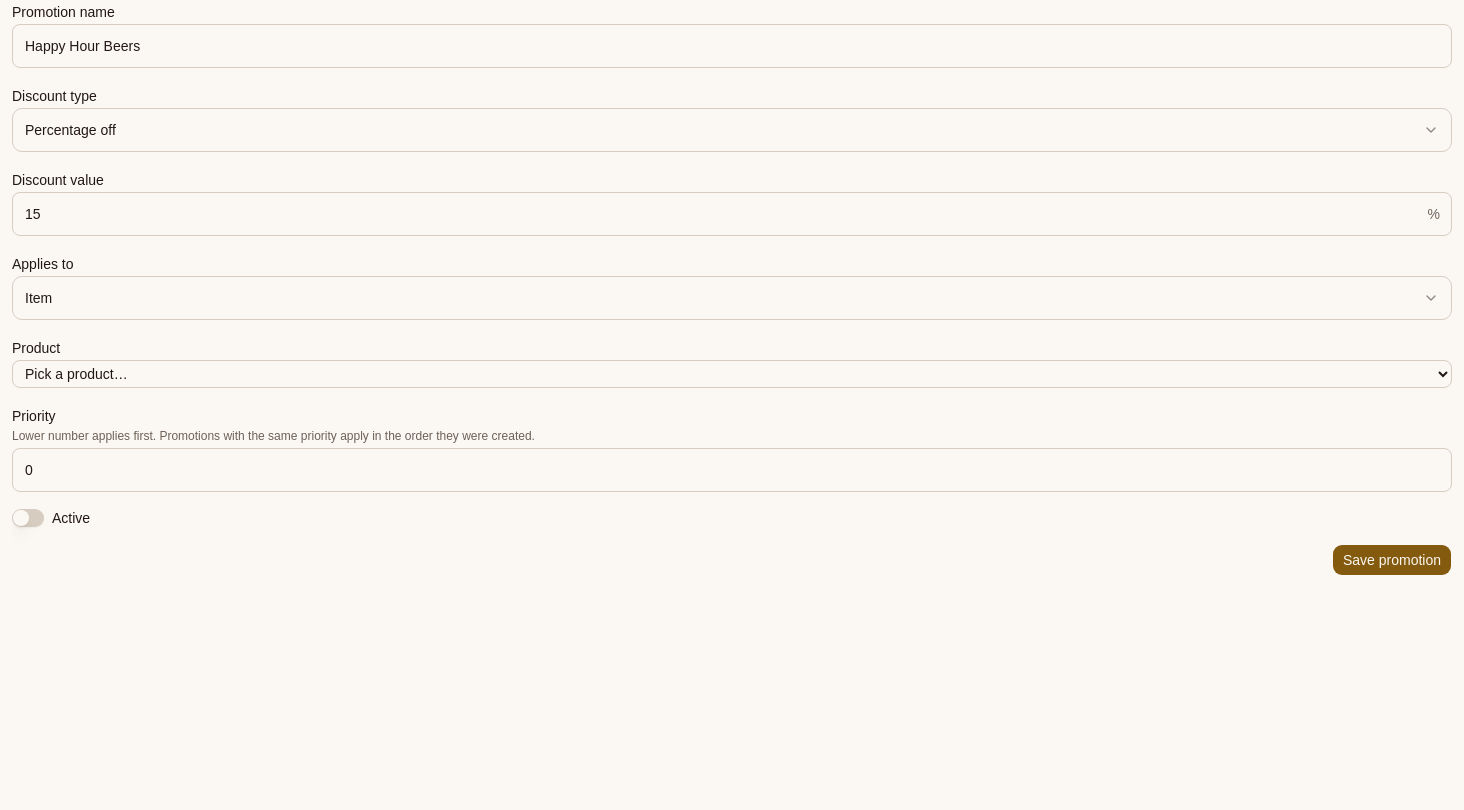
Test: PromotionBuilderForm › switching target type to category shows CategoryTreePicker and to item shows the native product select
Check: the dropdown labelled "Product" is shown, box x1=12 y1=360 x2=1452 y2=388
Click the dropdown named "Applies to" at (39,298), box x1=12 y1=276 x2=1452 y2=320
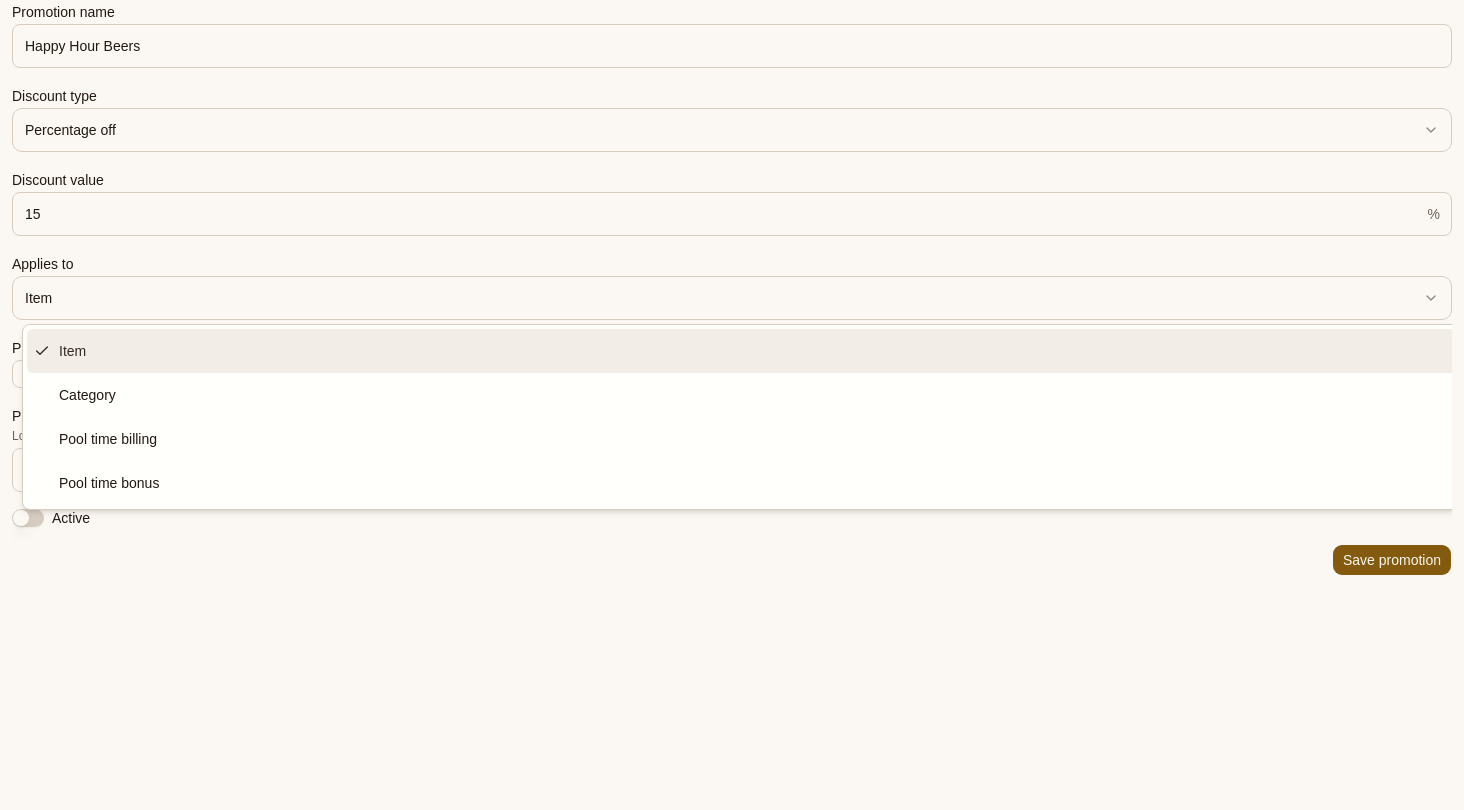
Click the option "Category" at (87,395), box x1=59 y1=387 x2=116 y2=403
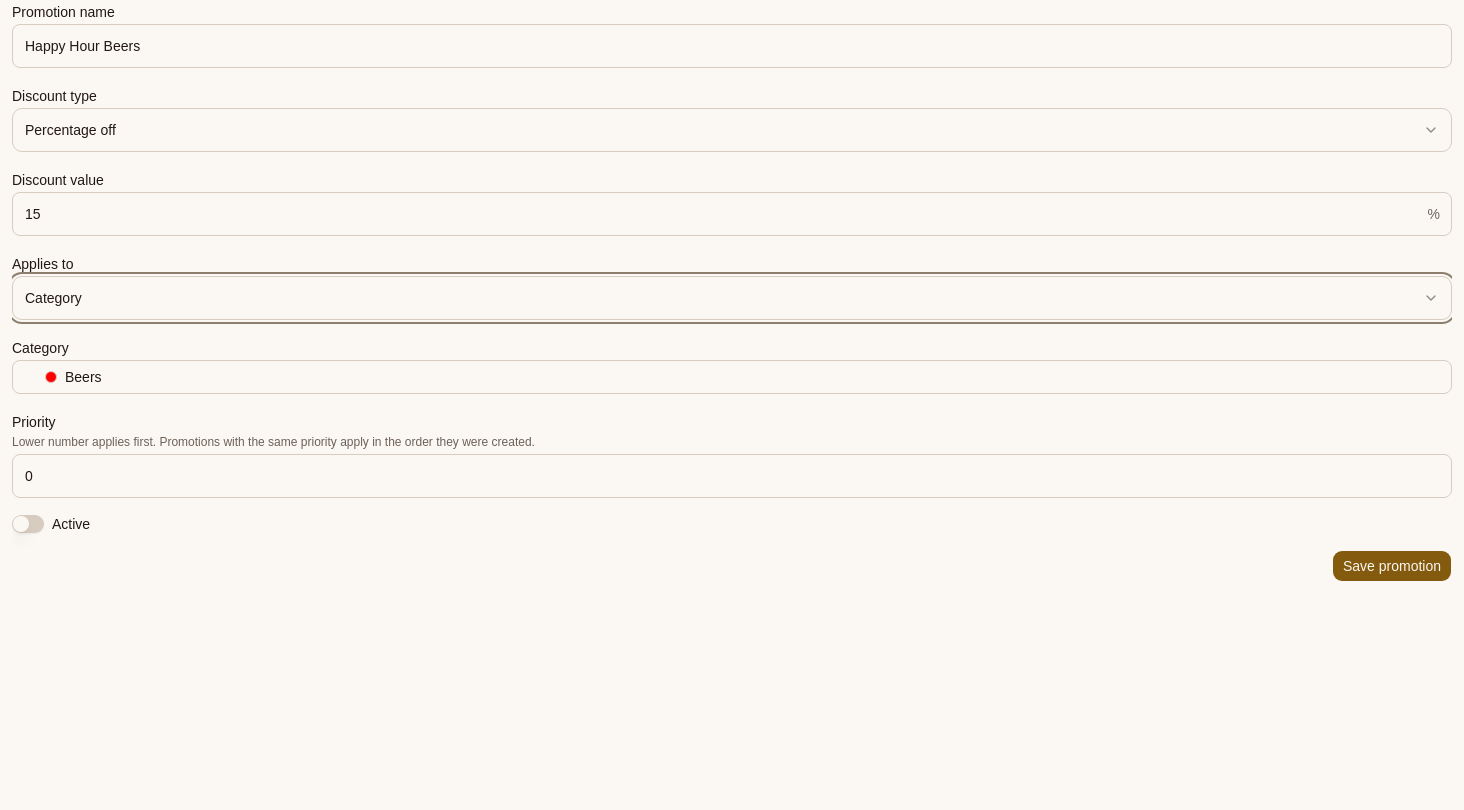
Check: the label labelled "Product" is gone
Check: the list is shown, box x1=12 y1=360 x2=1452 y2=394
Check: the text "Beers" is shown, box x1=65 y1=369 x2=102 y2=385
Click the dropdown named "Applies to" at (53,298), box x1=12 y1=276 x2=1452 y2=320
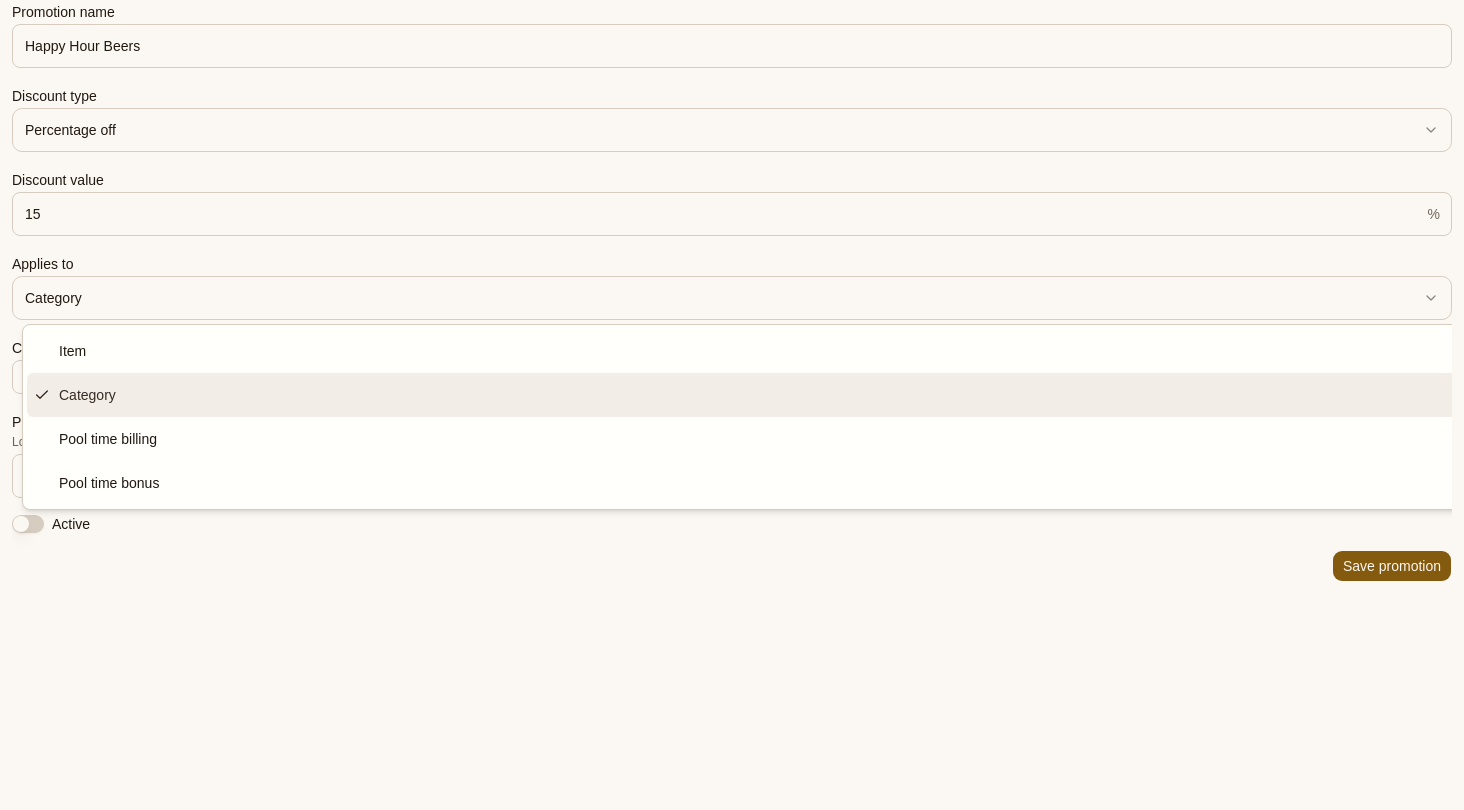
Click the option "Item" at (73,351), box x1=59 y1=343 x2=86 y2=359
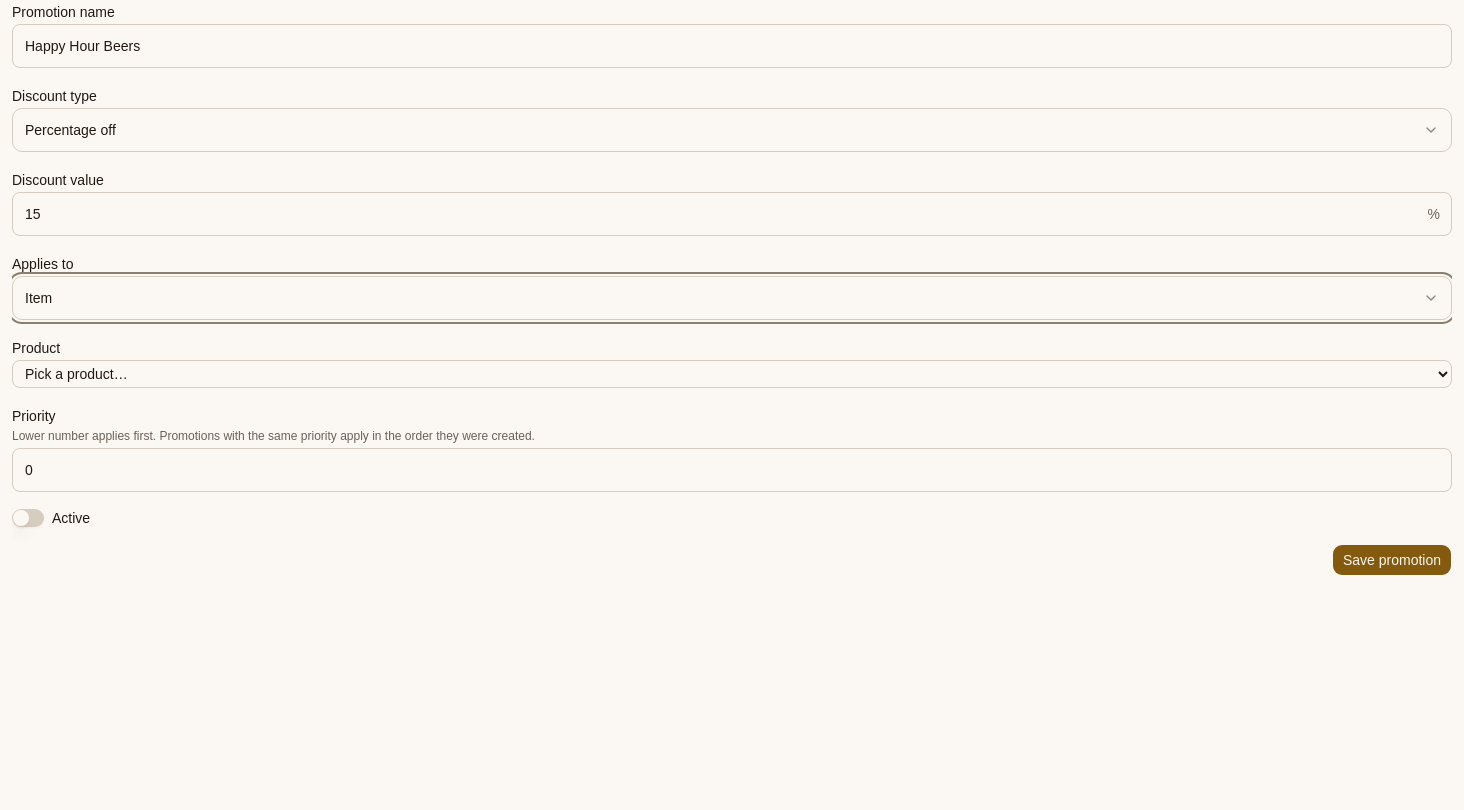
Check: the dropdown labelled "Product" is shown, box x1=12 y1=360 x2=1452 y2=388
